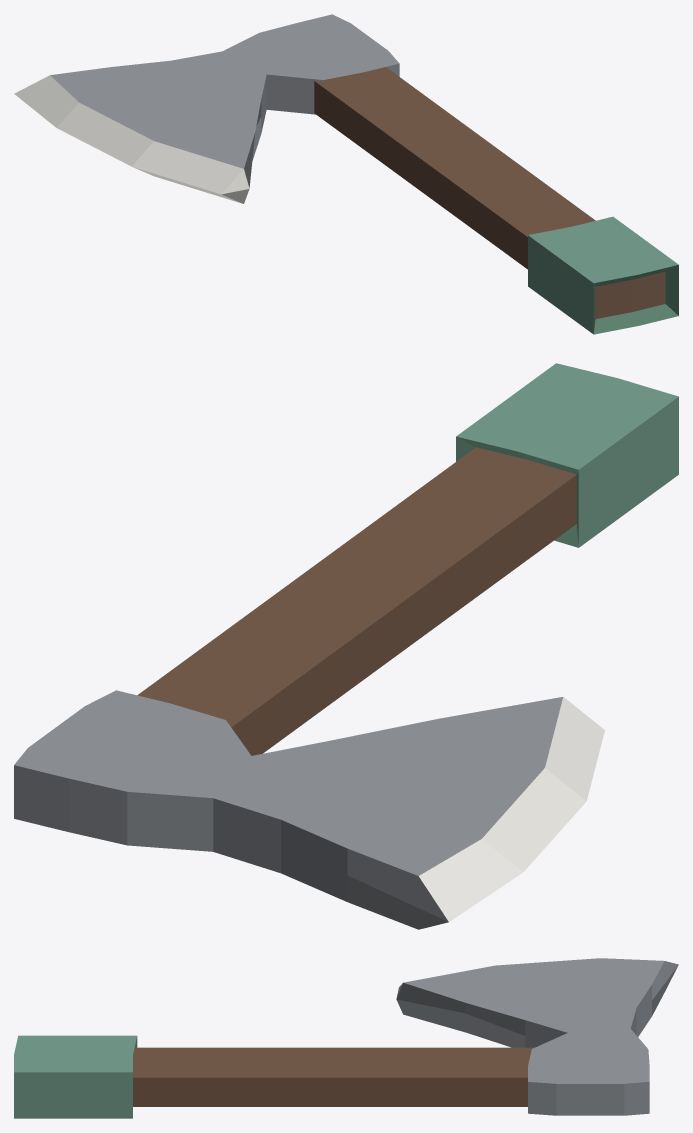
File: axe-typ-02.obj
3 views of the same model, one above another, from view 1: azimuth 30°, elevation 25°; view 2: azimuth 150°, elevation 25°; view 3: azimuth 270°, elevation 25° (orthographic). The views are drawn at different scales.
Parts seen in each view (by area): view 1: axe-typ-02; view 2: axe-typ-02; view 3: axe-typ-02.
Part boxes in pixels (<box>): axe-typ-02: <box>14,14,678,334</box>; axe-typ-02: <box>14,363,678,929</box>; axe-typ-02: <box>14,958,678,1118</box>.
Bounding box in the file's own units: 0.1581 × 0.025 × 0.3249.
